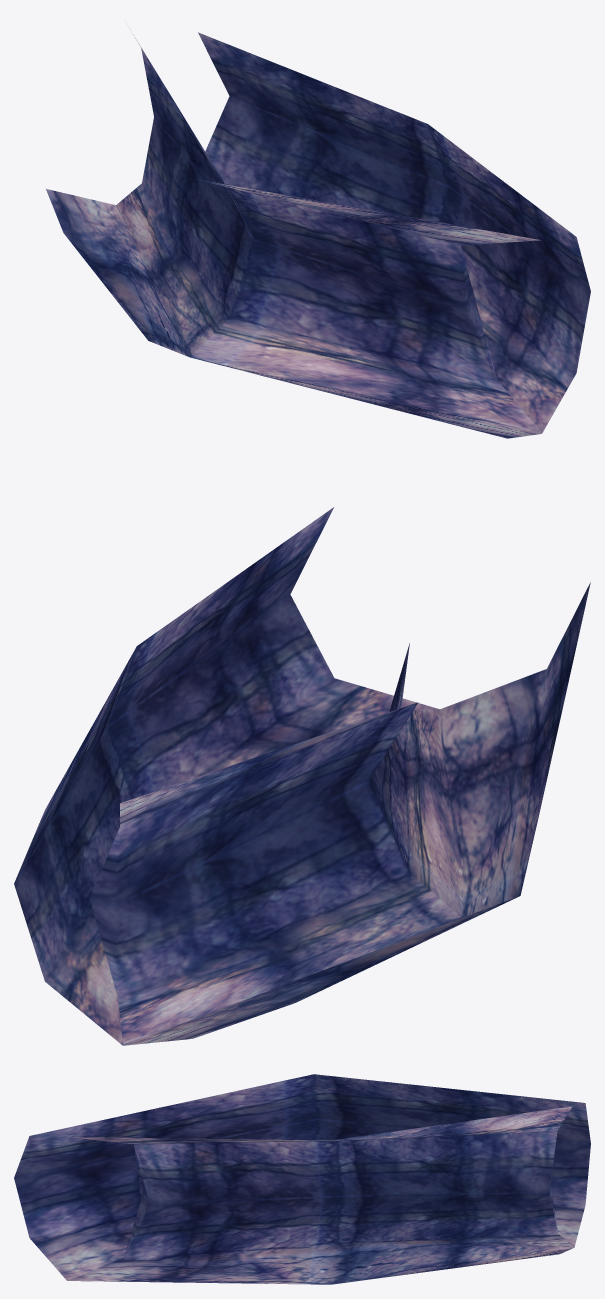
3 views of the same model, one above another, from view 1: azimuth 30°, elevation 25°; view 2: azimuth 150°, elevation 25°; view 3: azimuth 270°, elevation 25° (orthographic). The views are drawn at different scales.
Parts seen in each view (by area): view 1: 16; view 2: 16; view 3: 16.
Part boxes in pixels (bbox=[...]): 16: bbox=[46, 29, 590, 438]; 16: bbox=[14, 507, 590, 1045]; 16: bbox=[14, 1074, 590, 1284].
Size of the model in its own units: 6736 by 3751 by 13592.
Materials: 1 (1 with a texture image).
